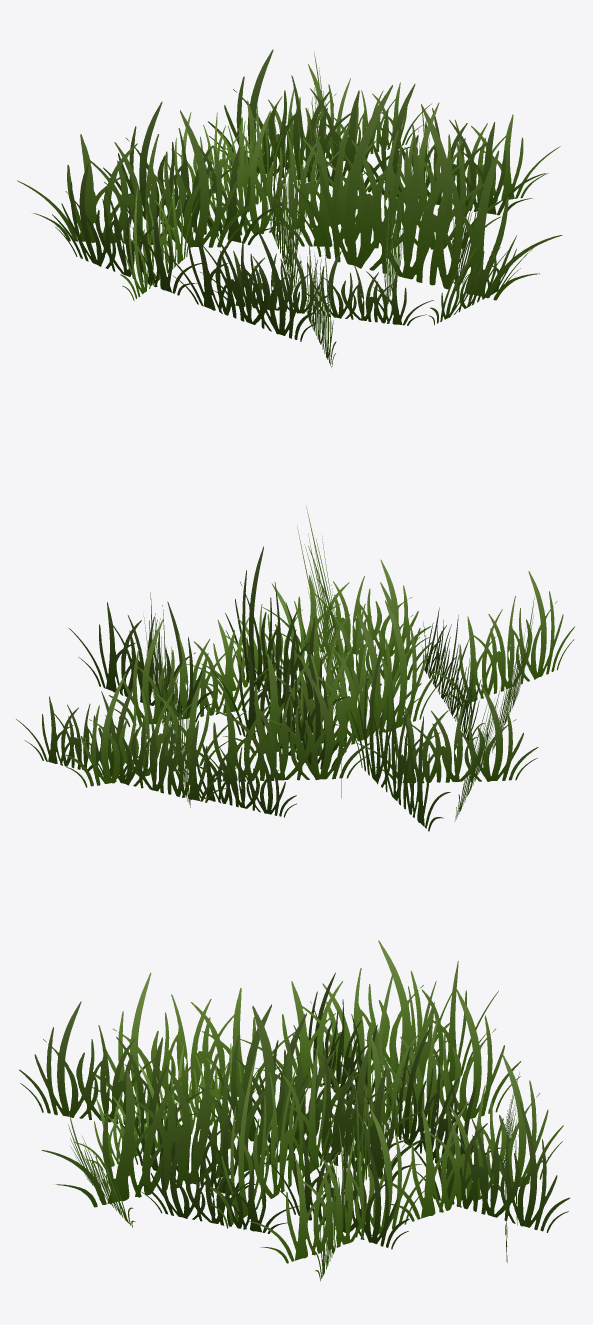
File: high_grass_01.gltf
3 views of the same model, one above another, from view 1: azimuth 30°, elevation 25°; view 2: azimuth 150°, elevation 25°; view 3: azimuth 270°, elevation 25° (orthographic). The views are drawn at different scales.
Parts seen in each view (by area): view 1: default; view 2: default; view 3: default.
Boxes of the visible parts, left/top/right/bottom form: default: left=17, top=49, right=562, bottom=367; default: left=16, top=505, right=574, bottom=831; default: left=19, top=940, right=569, bottom=1281.
Size of the model in its own units: 1.91 by 0.7728 by 1.84.
1 material, 1 textured.
